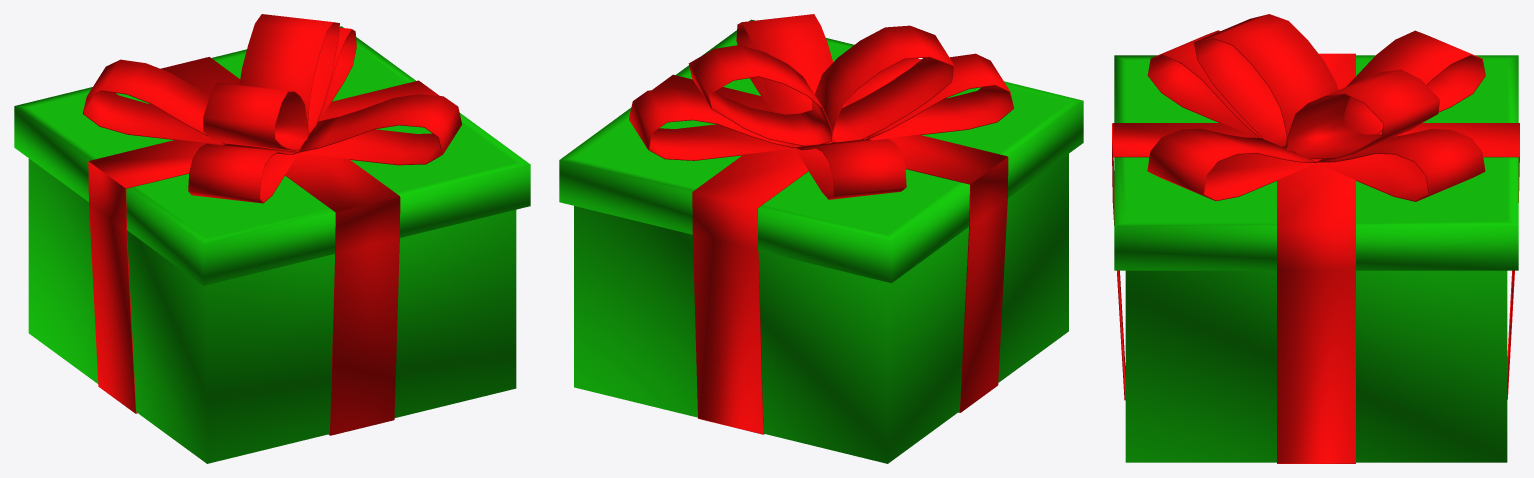
File: present3.fbx
3 renders of one model, left to right at view 1: azimuth 30°, elevation 25°; view 2: azimuth 150°, elevation 25°; view 3: azimuth 270°, elevation 25°, orthographic. The views are drawn at different scales.
Parts seen in each view (by area): view 1: present.002; view 2: present.002; view 3: present.002.
Boxes of the visible parts, x1,y1,x2,y2 form: present.002: (14, 14, 530, 463); present.002: (559, 14, 1083, 463); present.002: (1112, 14, 1519, 463).
Size of the model in its own units: 318 by 281 by 318.
1 material, 1 textured.
